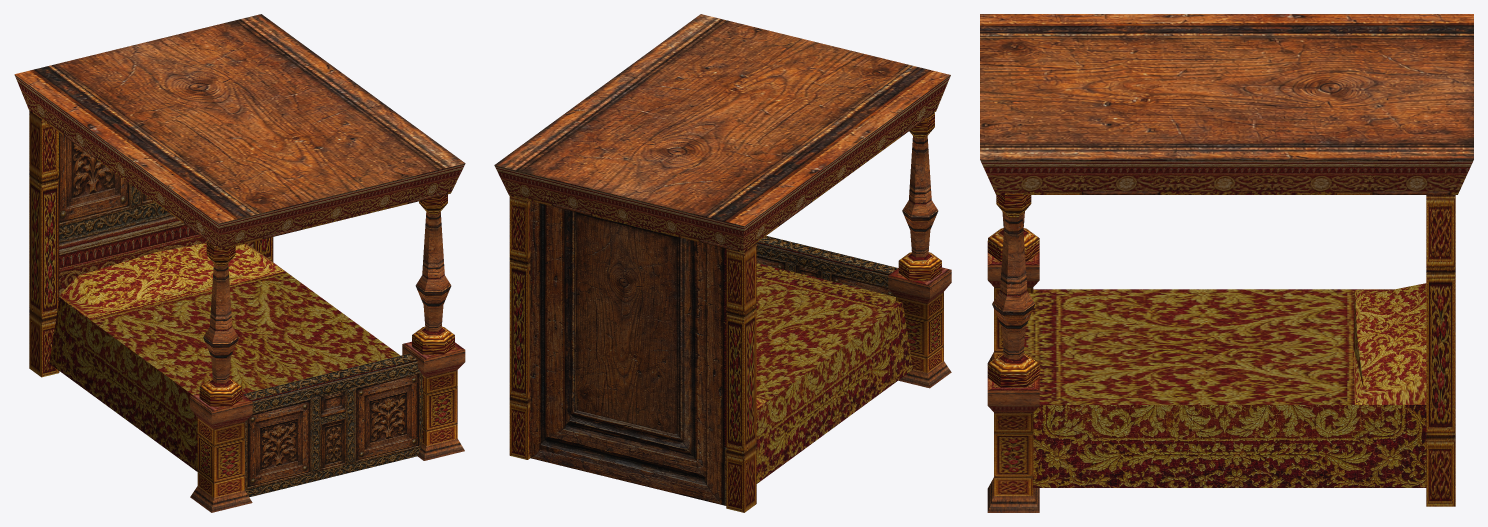
Rendered from mm9_deco_bedornate.glb.
3 renders of one model, left to right at view 1: azimuth 30°, elevation 25°; view 2: azimuth 150°, elevation 25°; view 3: azimuth 270°, elevation 25°, orthographic. The views are drawn at different scales.
Visible parts, largest first — view 1: Bedornate; view 2: Bedornate; view 3: Bedornate.
Part boxes in pixels (x1,y1,x2,y2): Bedornate: (14, 14, 465, 512); Bedornate: (494, 14, 951, 512); Bedornate: (980, 14, 1473, 512).
Size of the model in its own units: 3.01 by 3.3 by 4.19.
2 materials, 2 textured.
